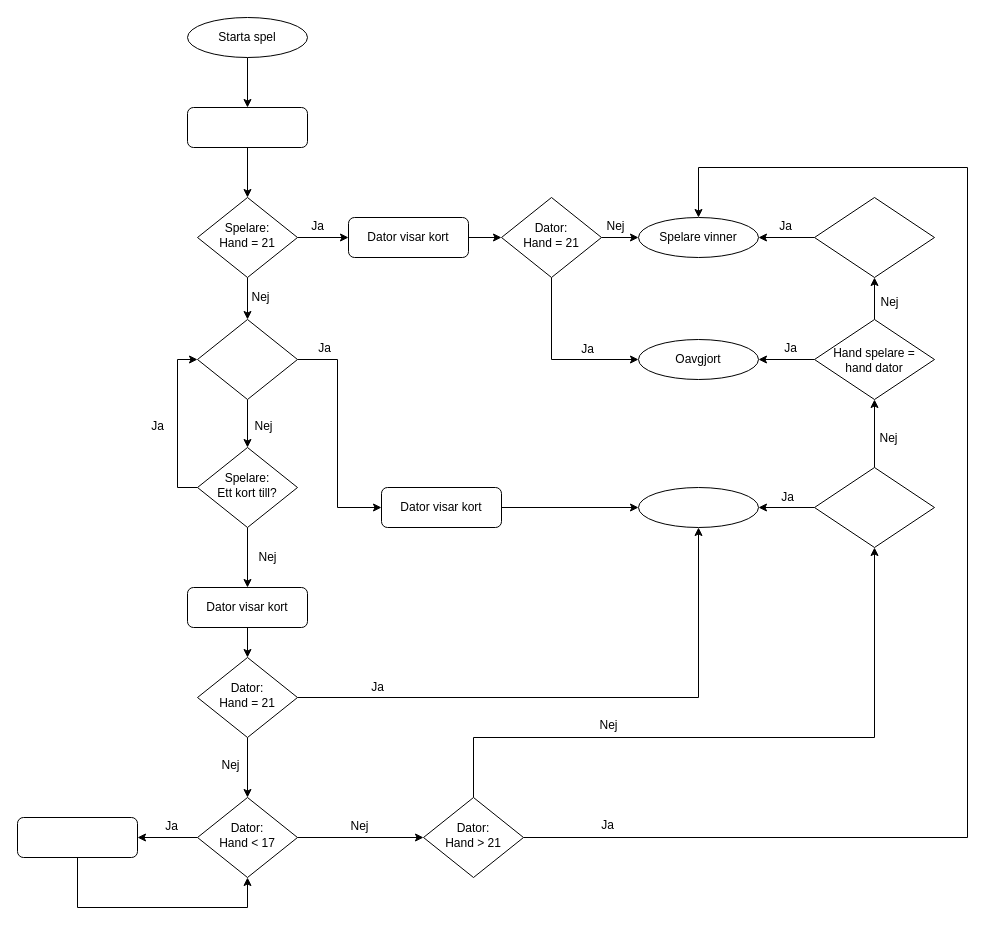
Some shapes in this 993 by 933 pixel diagram are drawn without their labels. The shapes that lost their labels are listed below. From the top down, each one's centre as x and y in pixels, then its label:
the point at 247,127: Dela ut två kort till spelare och dator
the point at 874,237: Hand spelare > hand dator
the point at 247,359: Spelare: Hand > 21
the point at 698,507: Spelare förlorar
the point at 874,507: Hand spelare < hand dator
the point at 77,837: Ge dator ett kort
